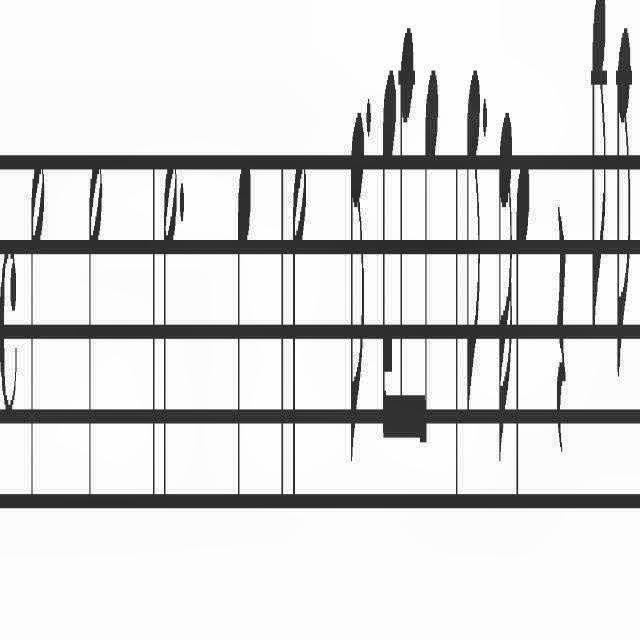Eighth-note: (397, 0, 417, 466), (614, 0, 638, 386), (465, 33, 483, 457), (587, 0, 609, 344), (423, 45, 441, 462), (350, 39, 364, 484)
Half-note: (26, 127, 49, 535), (82, 137, 106, 528), (159, 88, 177, 500), (292, 86, 308, 538)
Quarter-note: (230, 118, 254, 570), (516, 134, 536, 528)
Quarter-rest: (554, 183, 570, 477)
Sixteenth-note: (379, 46, 397, 452), (498, 102, 514, 484)
